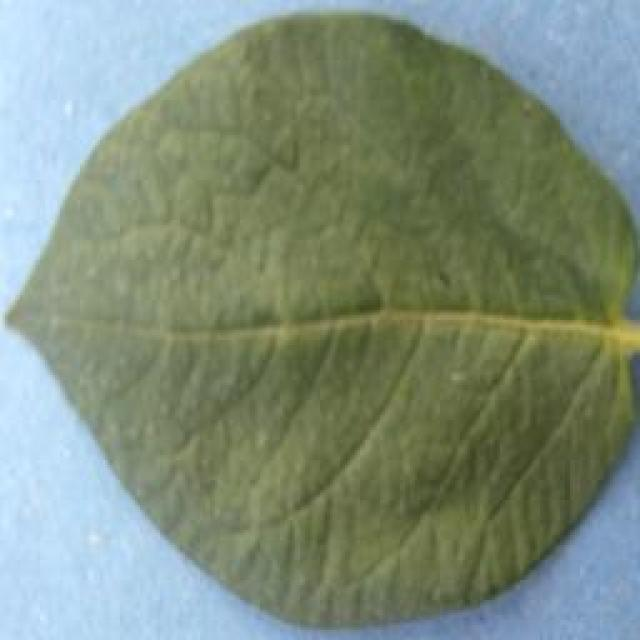Potato_Healthy: (7, 5, 635, 628)
